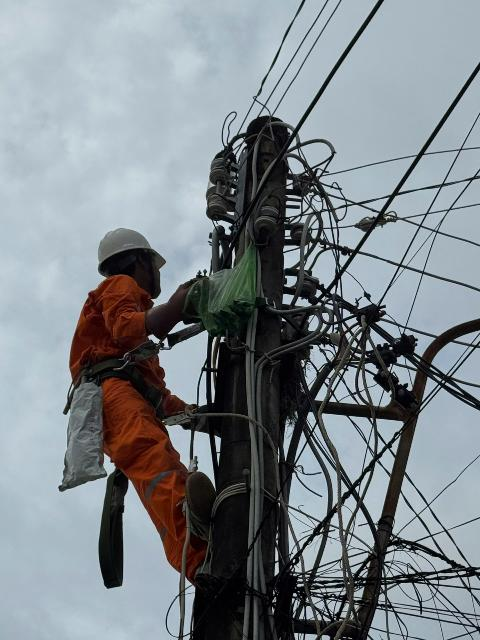gloves: (134, 270, 244, 340)
harness: (57, 348, 174, 404)
helmet: (77, 222, 175, 279)
shoes: (173, 468, 230, 538)
